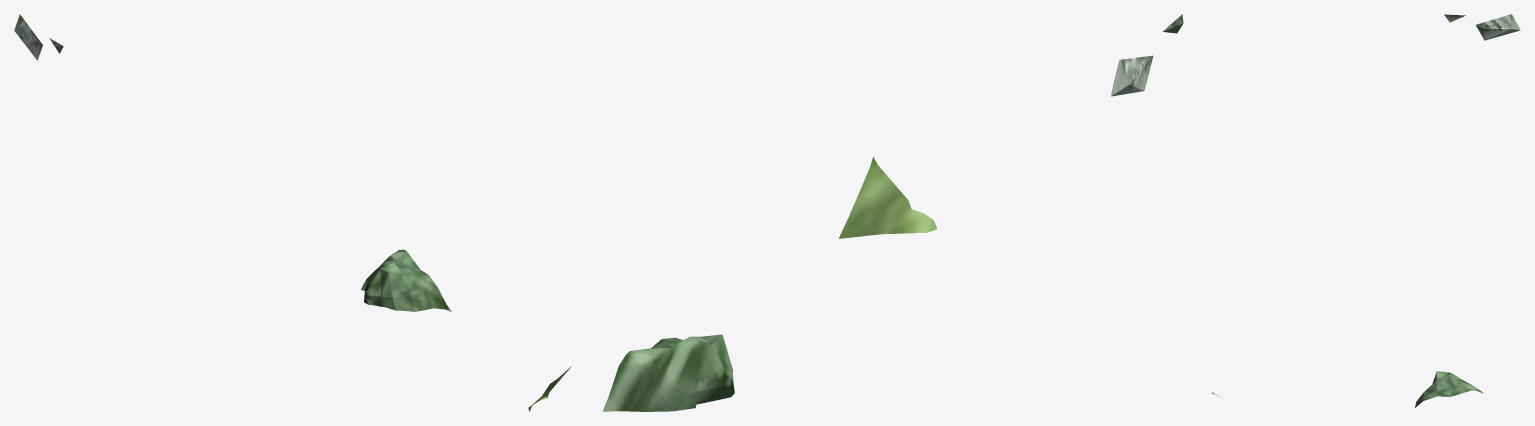
3 renders of one model, left to right at view 1: azimuth 30°, elevation 25°; view 2: azimuth 150°, elevation 25°; view 3: azimuth 270°, elevation 25°, orthographic. The views are drawn at different scales.
Bounding box in the file's own units: 4.06 × 3.55 × 3.81.
Materials: 1 (1 with a texture image).
